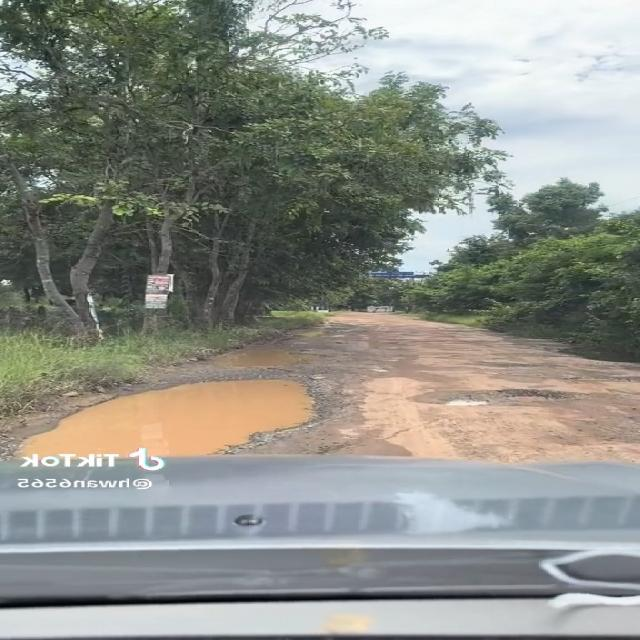Poth-hole: (365, 428, 567, 461)
